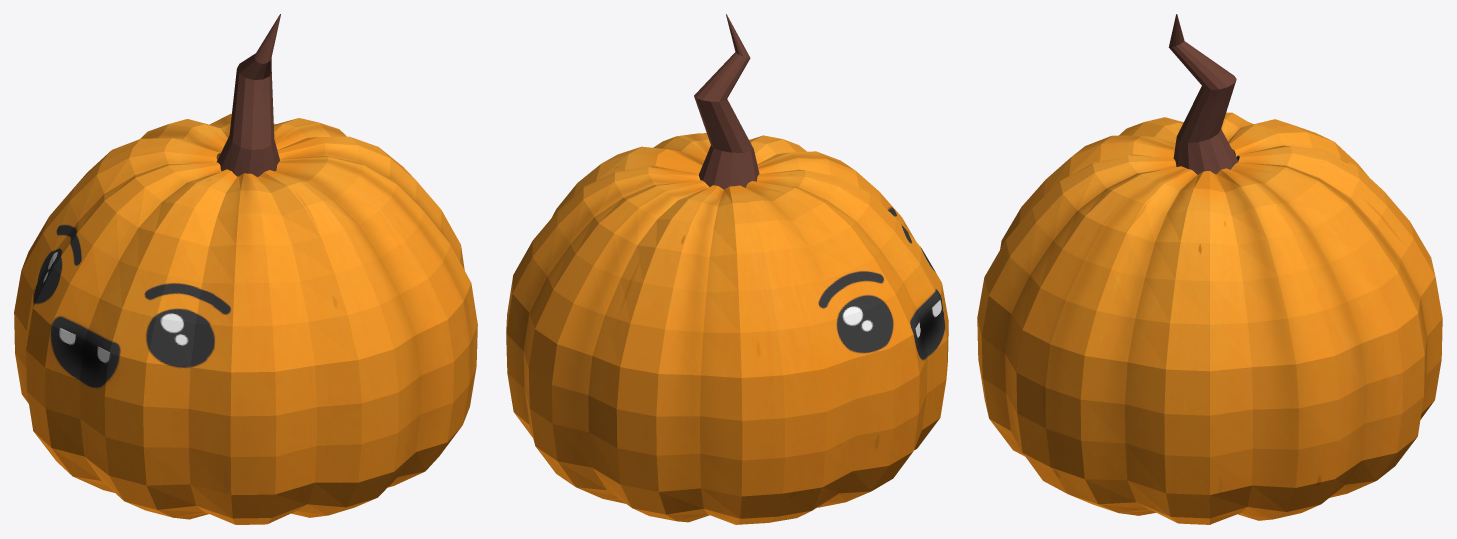
Rendered from Cartoon_Cute_Pumpkin.fbx.
The picture shows the model from 3 angles, left to right: view 1: azimuth 30°, elevation 25°; view 2: azimuth 150°, elevation 25°; view 3: azimuth 270°, elevation 25°; orthographic projection. The views are drawn at different scales.
Visible parts, largest first — view 1: Pumpkin, Cylinder; view 2: Pumpkin, Cylinder; view 3: Pumpkin, Cylinder.
Part boxes in pixels (x1,y1,x2,y2): Pumpkin: (14, 113, 477, 524); Cylinder: (216, 14, 280, 176); Pumpkin: (506, 133, 948, 524); Cylinder: (694, 14, 759, 189); Pumpkin: (977, 112, 1442, 524); Cylinder: (1168, 14, 1238, 174).
Bounding box in the file's own units: 203 × 231 × 202.
Materials: 1 (1 with a texture image).
